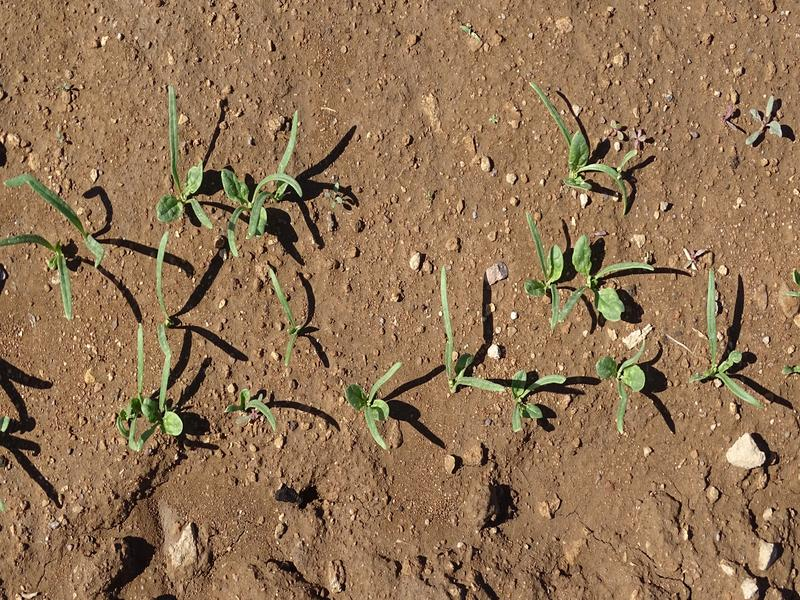Espinaca: (118, 125, 322, 441), (435, 280, 546, 434), (2, 170, 112, 322), (509, 236, 674, 327), (534, 94, 643, 210), (699, 275, 761, 413), (342, 359, 407, 463), (595, 346, 654, 431)
